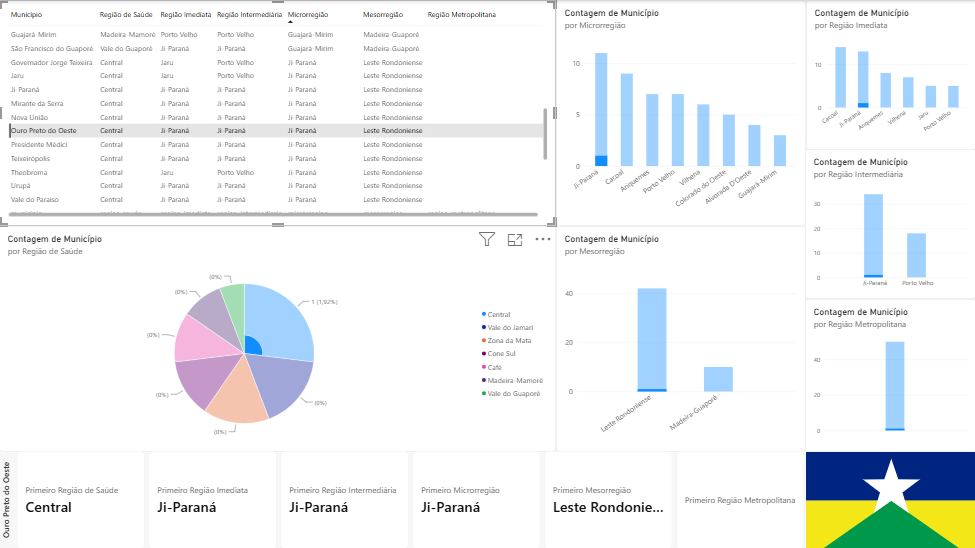

Layout of this report page (visuals, bound fields, positions):
{"tool":"powerbi","page":{"name":"Regiões de Rondônia","canvas":[1920,1080],"ordinal":0},"visuals":[{"type":"tableEx","fields":{"Values":["_regiões_dos_municípios_de_Rondônia_select_nome_AS_municipio_nom_202609270300.Column1","_regiões_dos_municípios_de_Rondônia_select_nome_AS_municipio_nom_202609270300.Column2","_regiões_dos_municípios_de_Rondônia_select_nome_AS_municipio_nom_202609270300.Column3","_regiões_dos_municípios_de_Rondônia_select_nome_AS_municipio_nom_202609270300.Column4","_regiões_dos_municípios_de_Rondônia_select_nome_AS_municipio_nom_202609270300.Column5","_regiões_dos_municípios_de_Rondônia_select_nome_AS_municipio_nom_202609270300.Column6","_regiões_dos_municípios_de_Rondônia_select_nome_AS_municipio_nom_202609270300.Column7"]},"box":[0,0,1094.3,442.9],"z":0},{"type":"pieChart","fields":{"Category":["_regiões_dos_municípios_de_Rondônia_select_nome_AS_municipio_nom_202609270300.Região de Saúde"],"Y":["CountNonNull(_regiões_dos_municípios_de_Rondônia_select_nome_AS_municipio_nom_202609270300.Município)"]},"box":[0,444.3,1094.3,442.9],"z":1000},{"type":"columnChart","fields":{"Category":["_regiões_dos_municípios_de_Rondônia_select_nome_AS_municipio_nom_202609270300.Microrregião"],"Y":["CountNonNull(_regiões_dos_municípios_de_Rondônia_select_nome_AS_municipio_nom_202609270300.Município)"]},"box":[1093.6,0,490,443],"z":2000},{"type":"columnChart","fields":{"Category":["_regiões_dos_municípios_de_Rondônia_select_nome_AS_municipio_nom_202609270300.Mesorregião"],"Y":["CountNonNull(_regiões_dos_municípios_de_Rondônia_select_nome_AS_municipio_nom_202609270300.Município)"]},"box":[1094,444,490,443],"z":3000},{"type":"columnChart","fields":{"Category":["_regiões_dos_municípios_de_Rondônia_select_nome_AS_municipio_nom_202609270300.Região Imediata"],"Y":["CountNonNull(_regiões_dos_municípios_de_Rondônia_select_nome_AS_municipio_nom_202609270300.Município)"]},"box":[1584,0,336,294],"z":4000},{"type":"columnChart","fields":{"Category":["_regiões_dos_municípios_de_Rondônia_select_nome_AS_municipio_nom_202609270300.Região Intermediária"],"Y":["CountNonNull(_regiões_dos_municípios_de_Rondônia_select_nome_AS_municipio_nom_202609270300.Município)"]},"box":[1583.3,293.3,336,294],"z":5000},{"type":"columnChart","fields":{"Category":["_regiões_dos_municípios_de_Rondônia_select_nome_AS_municipio_nom_202609270300.Região Metropolitana"],"Y":["CountNonNull(_regiões_dos_municípios_de_Rondônia_select_nome_AS_municipio_nom_202609270300.Município)"]},"box":[1583,587,336,300],"z":6000},{"type":"cardVisual","fields":{"Data":["Min(_regiões_dos_municípios_de_Rondônia_select_nome_AS_municipio_nom_202609270300.Região de Saúde)","Min(_regiões_dos_municípios_de_Rondônia_select_nome_AS_municipio_nom_202609270300.Região Imediata)","Min(_regiões_dos_municípios_de_Rondônia_select_nome_AS_municipio_nom_202609270300.Região Intermediária)","Min(_regiões_dos_municípios_de_Rondônia_select_nome_AS_municipio_nom_202609270300.Microrregião)","Min(_regiões_dos_municípios_de_Rondônia_select_nome_AS_municipio_nom_202609270300.Mesorregião)","Min(_regiões_dos_municípios_de_Rondônia_select_nome_AS_municipio_nom_202609270300.Região Metropolitana)"],"Rows":["_regiões_dos_municípios_de_Rondônia_select_nome_AS_municipio_nom_202609270300.Município"]},"box":[2,886,1582,192],"z":7000},{"type":"image","box":[1584,887,335,191],"z":8000}]}

Visuals, with their boxes on the page's 1920x1080 design canvas (x1, y1, x2, y2). These are canvas units, not pixel positions in the 975x548 screenshot, which may show the page scaled, cropped or inside an application window:
tableEx - _regiões_dos_municípios_de_Rondônia_select_nome_AS_municipio_nom_202609270300.Column1 x _regiões_dos_municípios_de_Rondônia_select_nome_AS_municipio_nom_202609270300.Column2: (0, 0, 1094, 443)
pieChart - _regiões_dos_municípios_de_Rondônia_select_nome_AS_municipio_nom_202609270300.Região de Saúde x CountNonNull(_regiões_dos_municípios_de_Rondônia_select_nome_AS_municipio_nom_202609270300.Município): (0, 444, 1094, 887)
columnChart - _regiões_dos_municípios_de_Rondônia_select_nome_AS_municipio_nom_202609270300.Microrregião x CountNonNull(_regiões_dos_municípios_de_Rondônia_select_nome_AS_municipio_nom_202609270300.Município): (1094, 0, 1584, 443)
columnChart - _regiões_dos_municípios_de_Rondônia_select_nome_AS_municipio_nom_202609270300.Mesorregião x CountNonNull(_regiões_dos_municípios_de_Rondônia_select_nome_AS_municipio_nom_202609270300.Município): (1094, 444, 1584, 887)
columnChart - _regiões_dos_municípios_de_Rondônia_select_nome_AS_municipio_nom_202609270300.Região Imediata x CountNonNull(_regiões_dos_municípios_de_Rondônia_select_nome_AS_municipio_nom_202609270300.Município): (1584, 0, 1920, 294)
columnChart - _regiões_dos_municípios_de_Rondônia_select_nome_AS_municipio_nom_202609270300.Região Intermediária x CountNonNull(_regiões_dos_municípios_de_Rondônia_select_nome_AS_municipio_nom_202609270300.Município): (1583, 293, 1919, 587)
columnChart - _regiões_dos_municípios_de_Rondônia_select_nome_AS_municipio_nom_202609270300.Região Metropolitana x CountNonNull(_regiões_dos_municípios_de_Rondônia_select_nome_AS_municipio_nom_202609270300.Município): (1583, 587, 1919, 887)
cardVisual - Min(_regiões_dos_municípios_de_Rondônia_select_nome_AS_municipio_nom_202609270300.Região de Saúde) x Min(_regiões_dos_municípios_de_Rondônia_select_nome_AS_municipio_nom_202609270300.Região Imediata): (2, 886, 1584, 1078)
image: (1584, 887, 1919, 1078)
